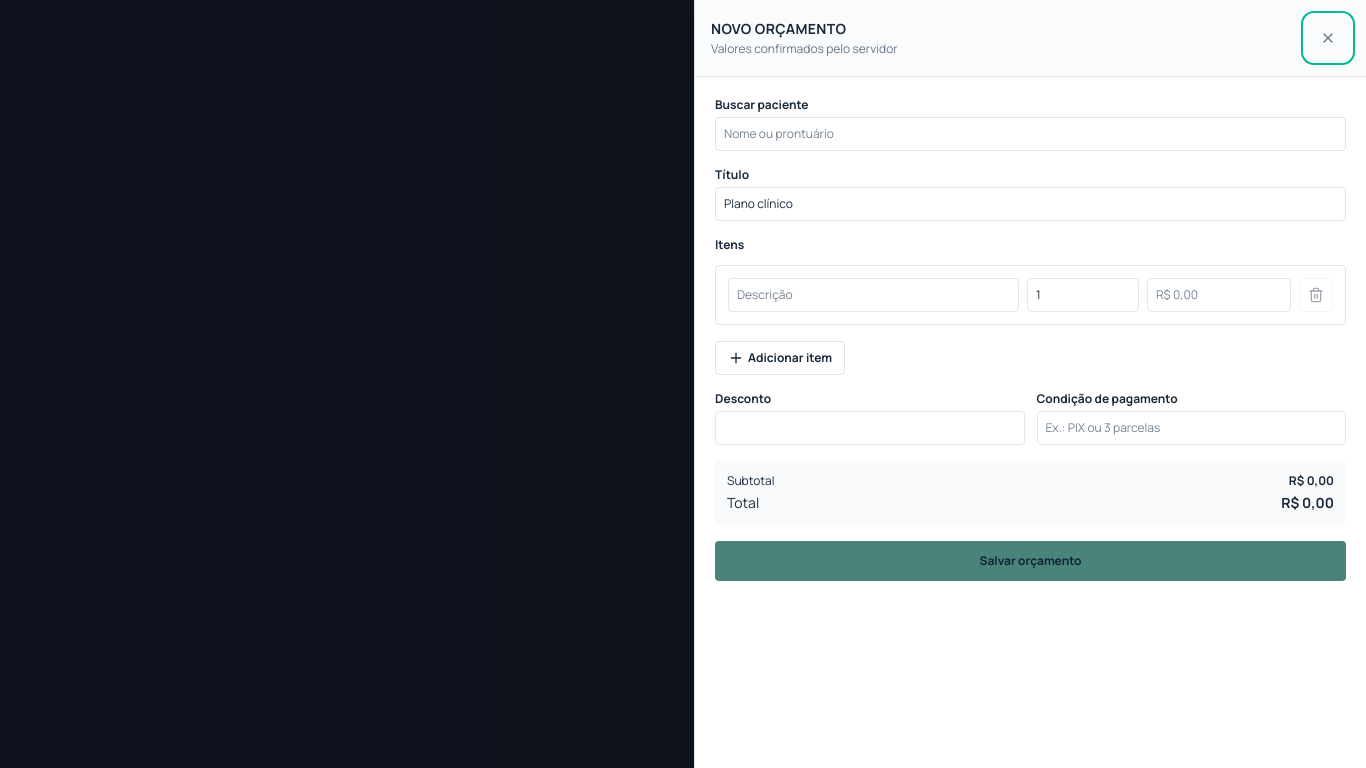
editor de orçamento › pesquisa paciente, mostra total exato e persiste o orçamento
Later steps or results of the test are not shown.
Type "Ana" into the field labelled "Buscar paciente" at (1030, 134), box [715,117,1346,151]
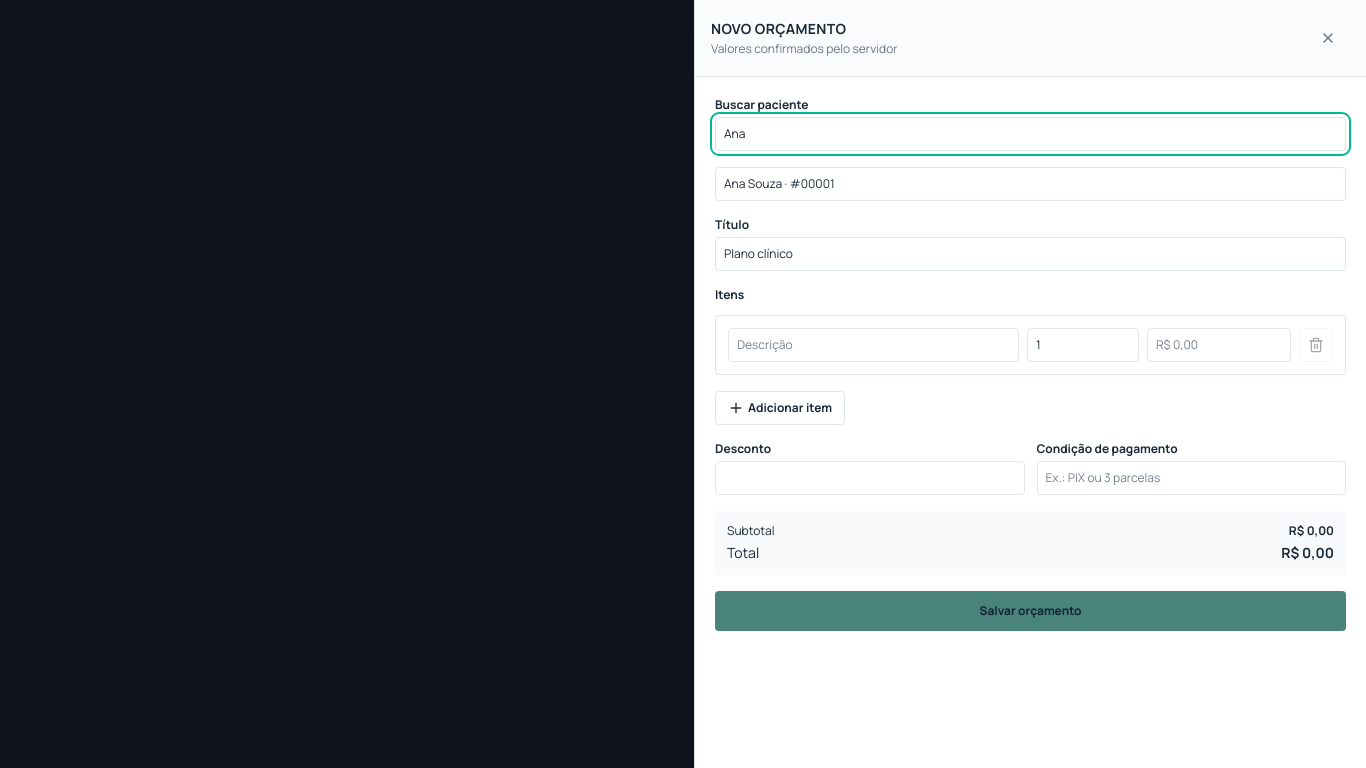
Expected: the button "Ana Souza · #00001" is shown
Click the button "Ana Souza · #00001" at (753, 184), box [716,168,1345,200]
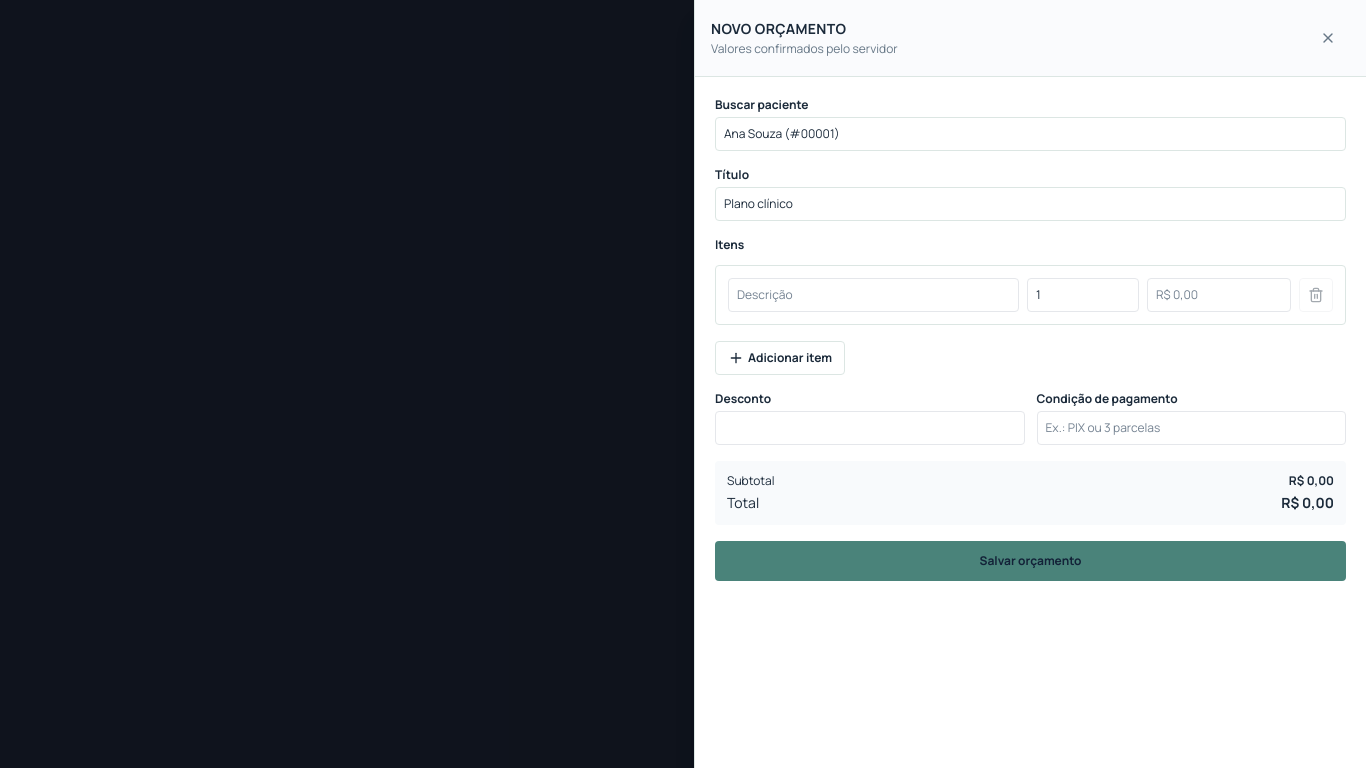
Type "Sessão clínica" into the field named "Descrição do item 1" at (874, 295), box [728,278,1019,312]
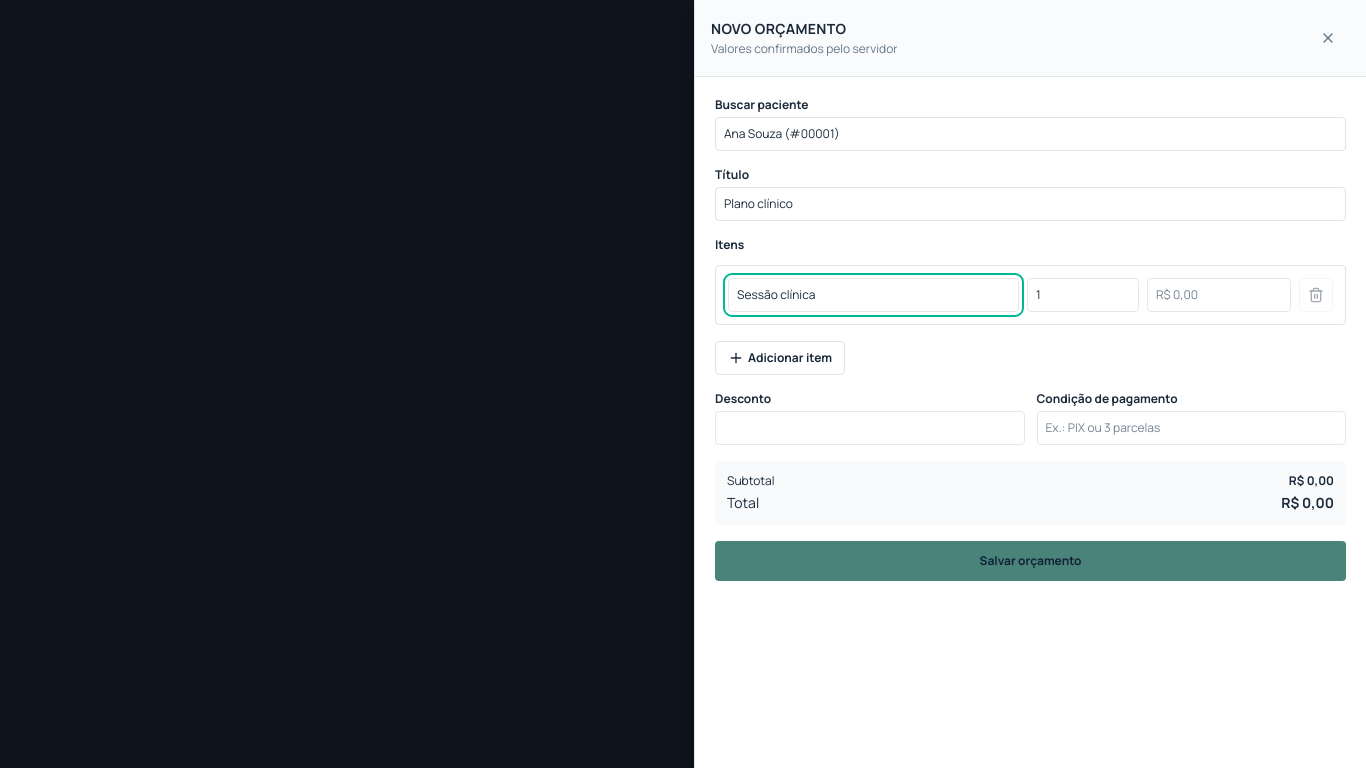
Replace the text in the number field named "Quantidade do item 1" with "3" at (1083, 295), box [1027,278,1139,312]
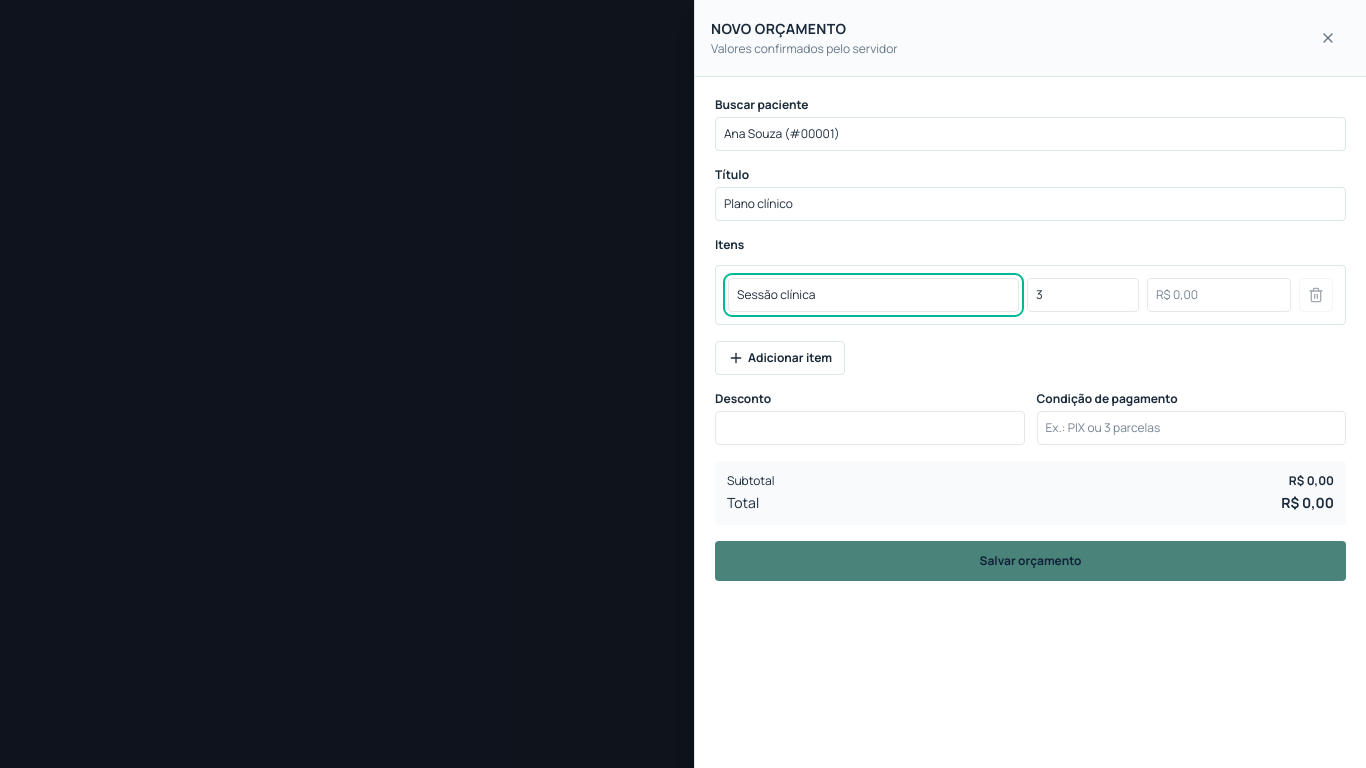
Type "0.10" into the number field named "Valor unitário do item 1" at (1219, 295), box [1147,278,1291,312]
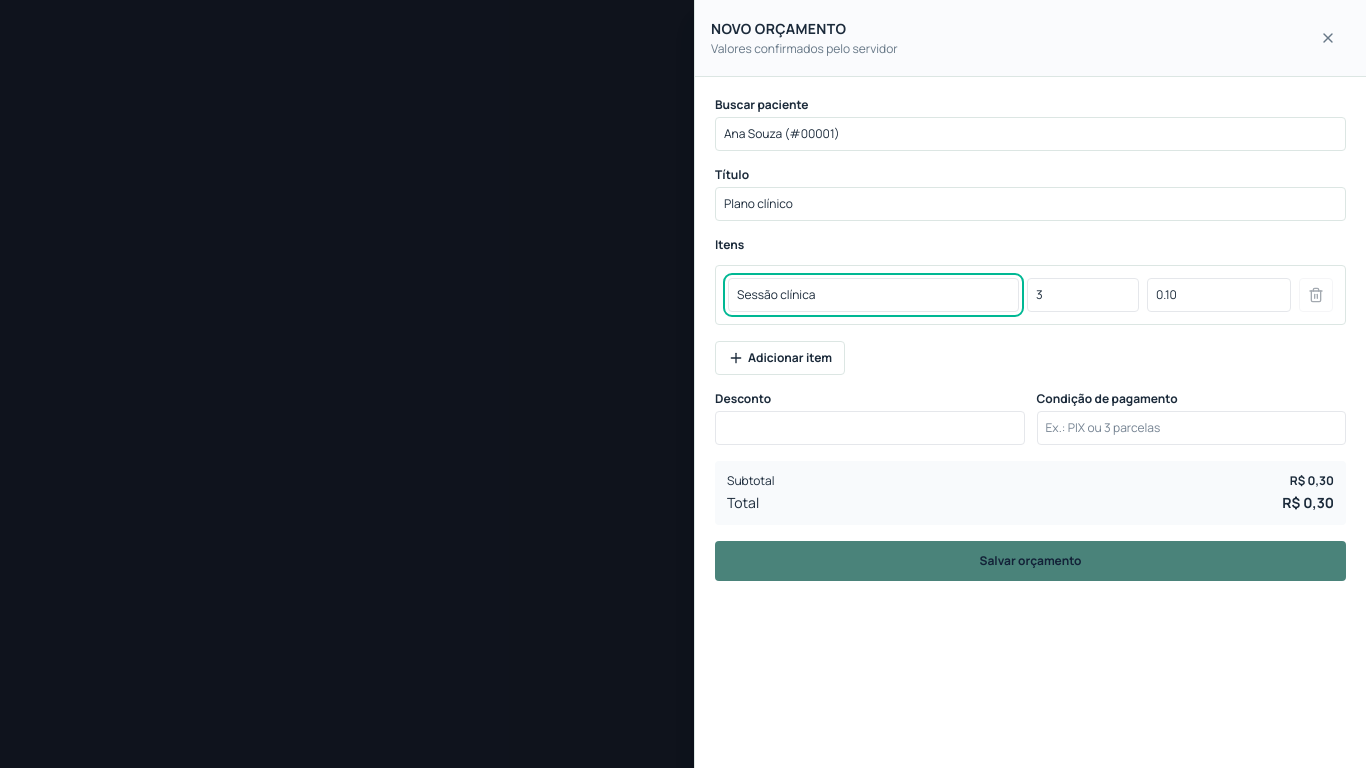
Type "0.01" into the number field labelled "Desconto" at (870, 428), box [715,411,1024,445]
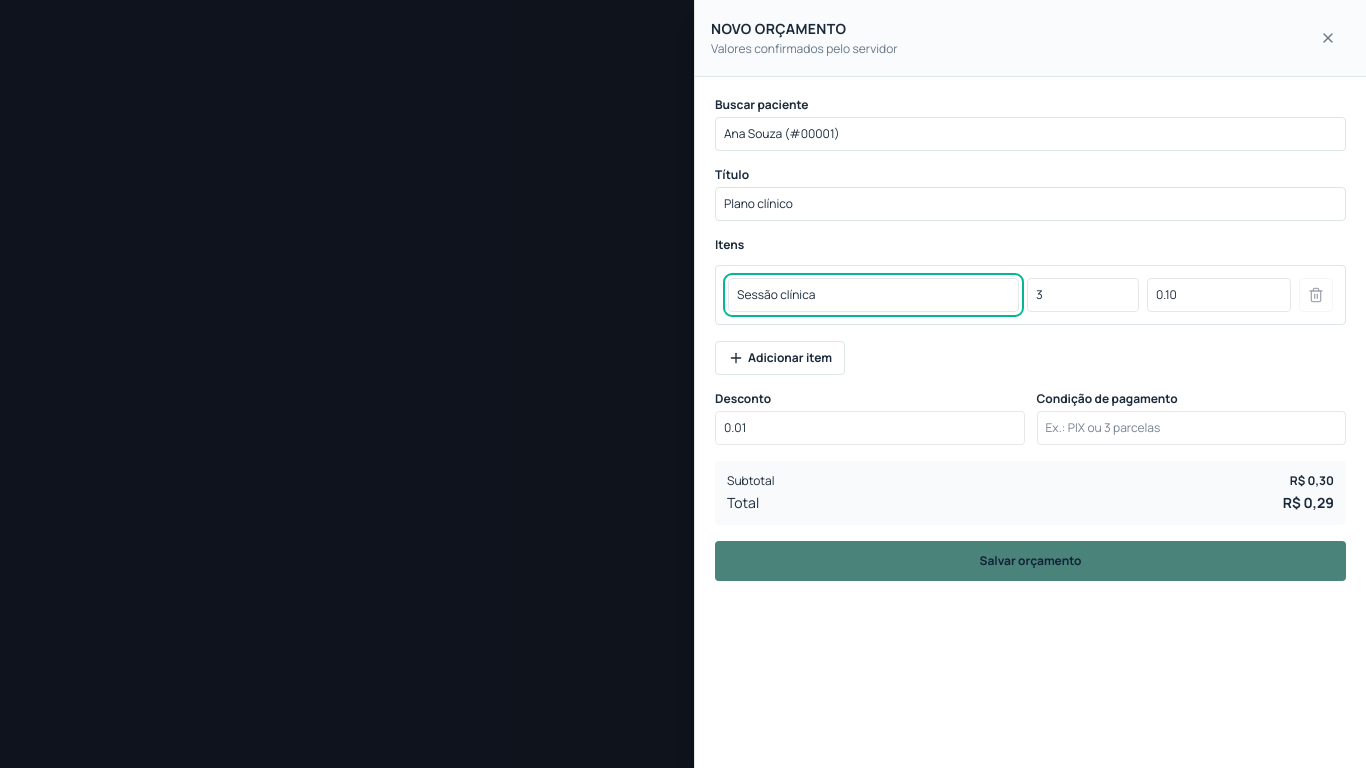
Expected: the text "R$ 0,29" is shown, [1283,493,1334,513]
